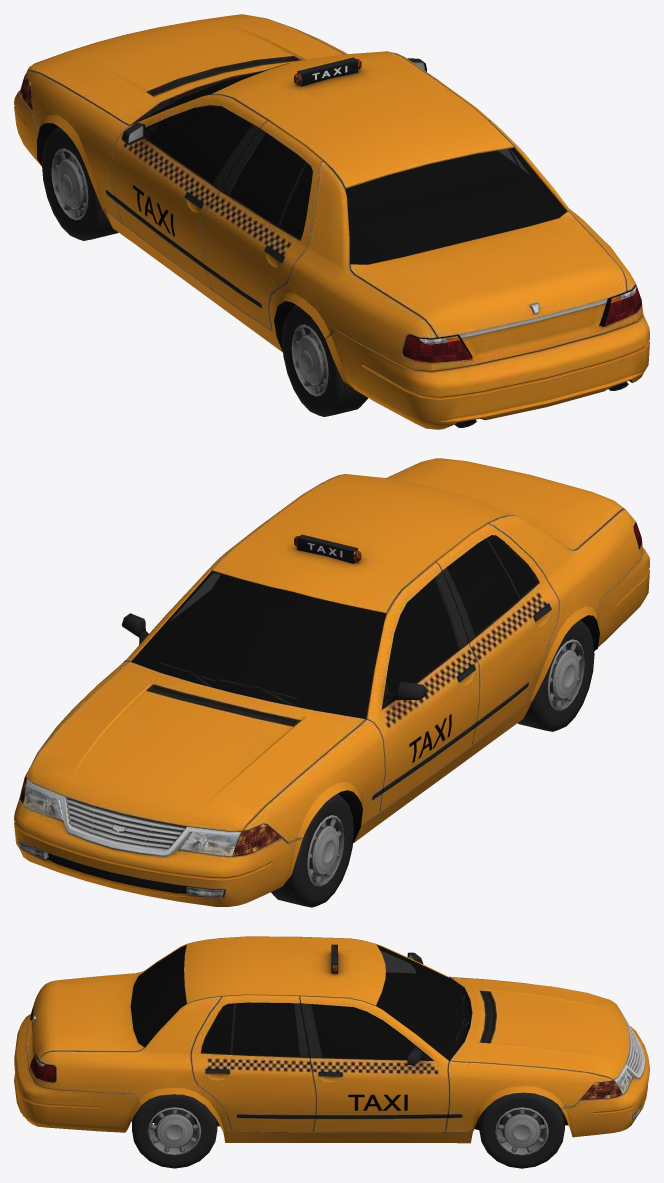
The model's file is taxi.glb.
3 views of the same model, one above another, from view 1: azimuth 30°, elevation 25°; view 2: azimuth 150°, elevation 25°; view 3: azimuth 270°, elevation 25° (orthographic). The views are drawn at different scales.
Visible parts, largest first — view 1: taxi, wheel_0, wheel_3; view 2: taxi, wheel_3, wheel_0; view 3: taxi, wheel_1, wheel_2.
Part boxes in pixels (x1,y1,x2,y2): taxi: (14, 14, 649, 429); wheel_0: (282, 305, 367, 416); wheel_3: (41, 126, 118, 240); taxi: (14, 458, 649, 906); wheel_3: (271, 793, 353, 907); wheel_0: (518, 619, 594, 731); taxi: (14, 936, 649, 1152); wheel_1: (479, 1092, 564, 1168); wheel_2: (132, 1094, 217, 1168).
Bounding box in the file's own units: 2.09 × 1.57 × 5.32.
4 materials, 4 textured.
